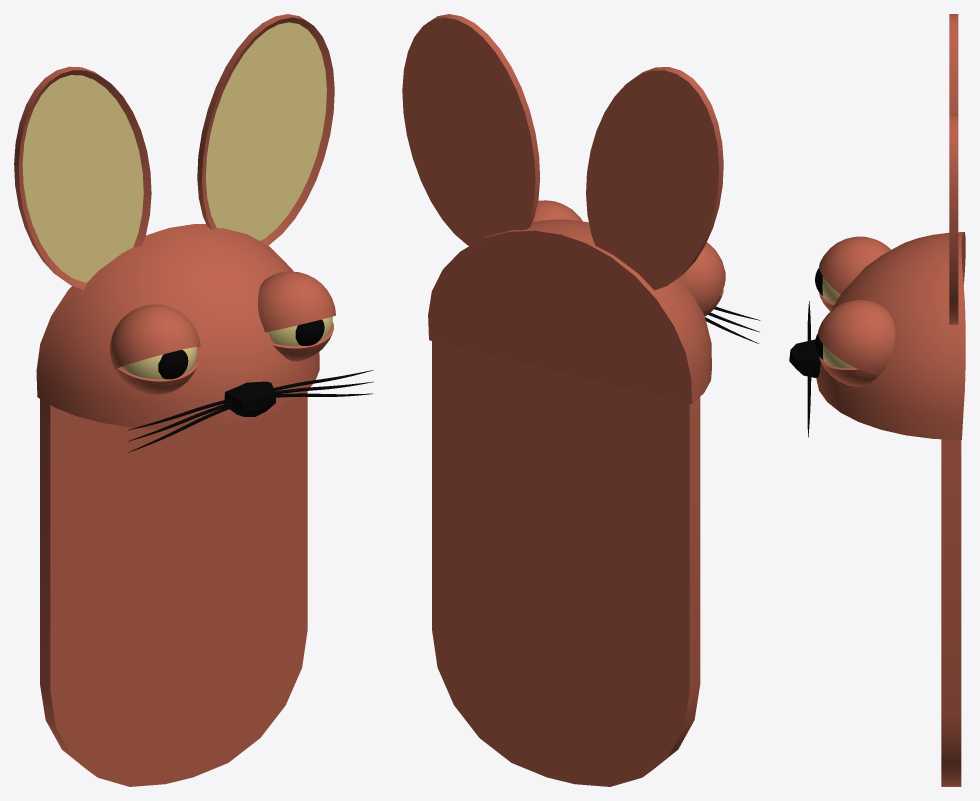
The model's file is MOUSE PHONE 1.fbx.
3 renders of one model, left to right at view 1: azimuth 30°, elevation 25°; view 2: azimuth 150°, elevation 25°; view 3: azimuth 270°, elevation 25°, orthographic. The views are drawn at different scales.
Visible parts, largest first — view 1: Sphere, Cube; view 2: Cube, Sphere; view 3: Sphere, Cube.
Boxes of the visible parts, left/top/right/bottom form: Sphere: left=14, top=14, right=373, bottom=452; Cube: left=40, top=391, right=307, bottom=786; Cube: left=432, top=341, right=700, bottom=786; Sphere: left=402, top=14, right=760, bottom=404; Sphere: left=789, top=14, right=965, bottom=439; Cube: left=941, top=439, right=961, bottom=786.
Bounding box in the file's own units: 287 × 636 × 145.
